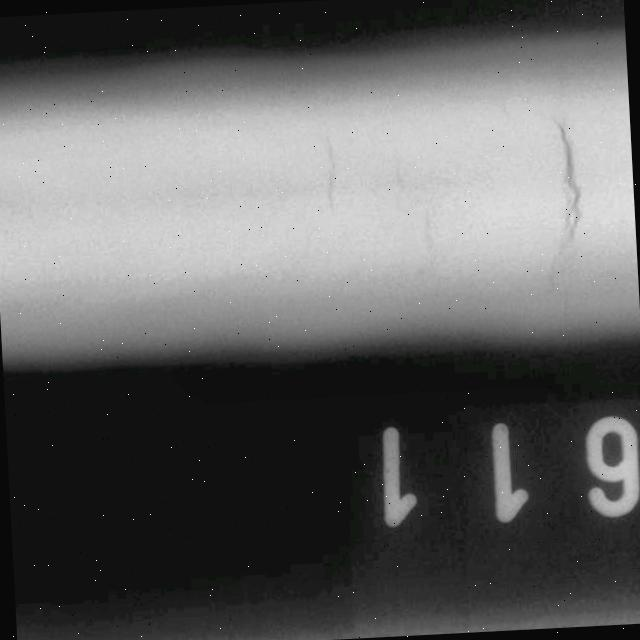Crack: (506, 86, 611, 296), (293, 97, 362, 236)
